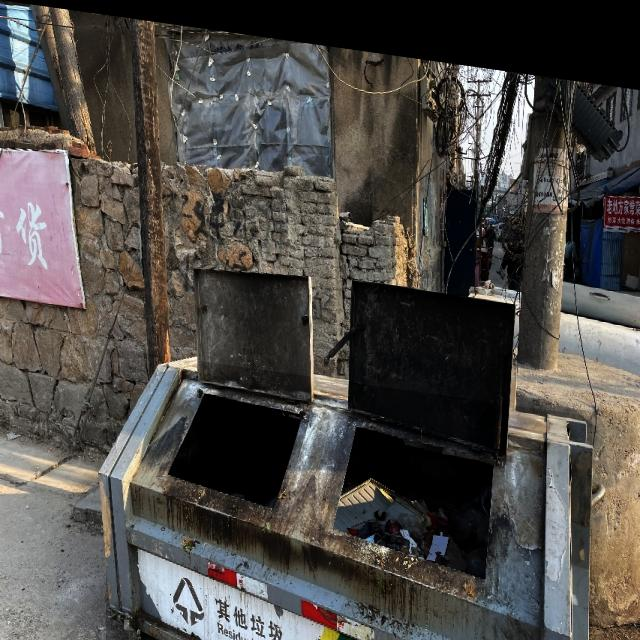garbage_bin: (107, 345, 592, 640)
